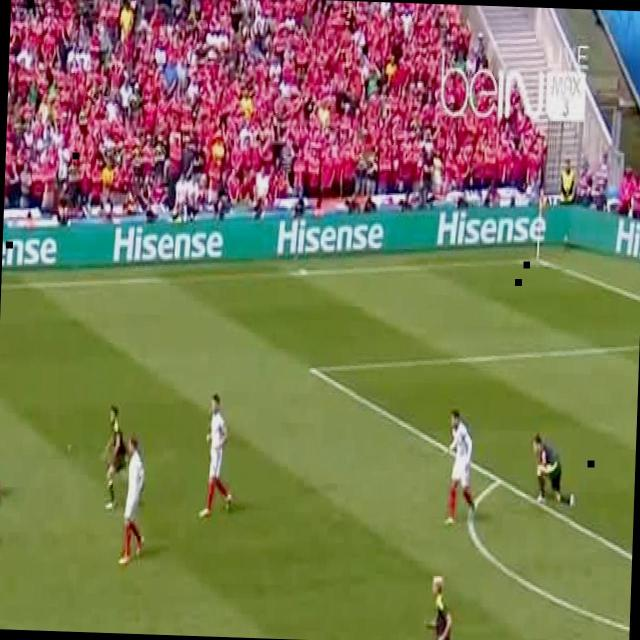player-white: (198, 392, 236, 520), (442, 411, 477, 527), (119, 438, 149, 566), (530, 433, 577, 507), (102, 405, 134, 511), (422, 573, 459, 640), (0, 384, 2, 495)
